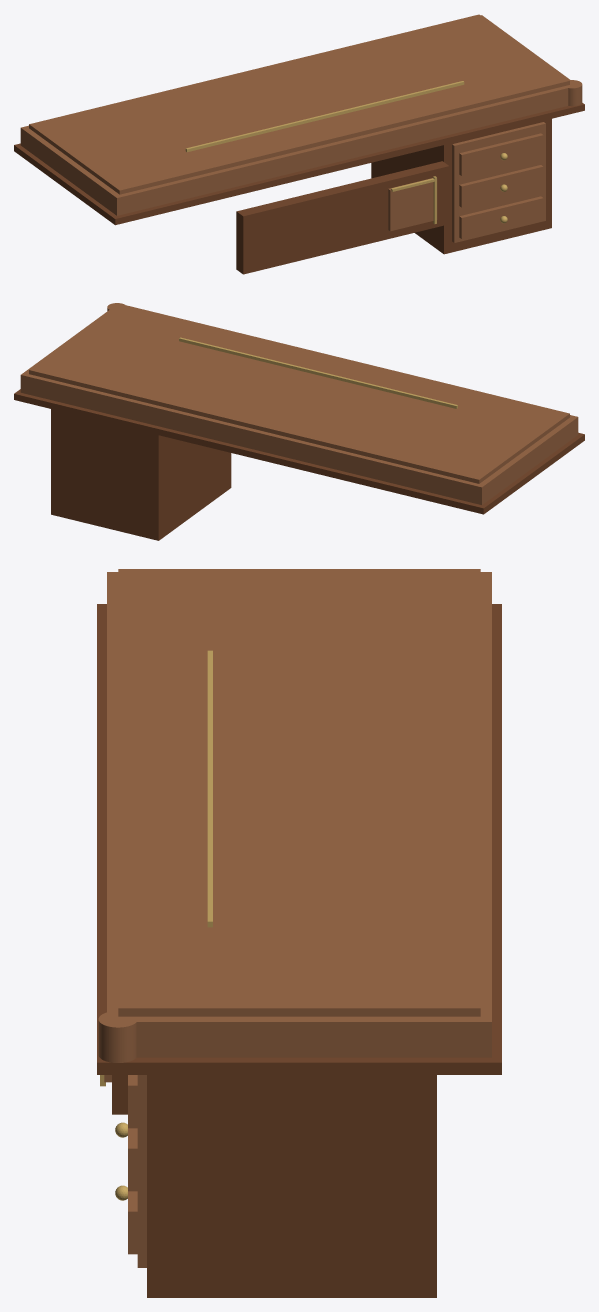
Rendered from resolute_desk.glb.
3 views of the same model, one above another, from view 1: azimuth 30°, elevation 25°; view 2: azimuth 150°, elevation 25°; view 3: azimuth 270°, elevation 25° (orthographic). The views are drawn at different scales.
Visible parts, largest first — view 1: DeskLipUpper, DeskTop, CenterApron, DeskLipLower, Pedestal, PedestalInset, Drawer2, Drawer0, Drawer1, CenterPanel, BlotterRail, DeskCorner; view 2: DeskLipUpper, Pedestal, DeskTop, DeskLipLower, BlotterRail; view 3: DeskLipUpper, Pedestal, DeskTop, DeskLipLower, PedestalInset, DeskCorner, BlotterRail.
Boxes of the visible parts, bbox=[...] form: DeskLipUpper: bbox=[29, 14, 569, 194]; DeskTop: bbox=[20, 15, 576, 215]; CenterApron: bbox=[236, 161, 449, 274]; DeskLipLower: bbox=[14, 102, 584, 225]; Pedestal: bbox=[371, 119, 551, 254]; PedestalInset: bbox=[452, 122, 545, 242]; Drawer2: bbox=[459, 196, 543, 238]; Drawer0: bbox=[459, 133, 543, 175]; Drawer1: bbox=[459, 165, 543, 207]; CenterPanel: bbox=[388, 178, 437, 231]; BlotterRail: bbox=[185, 81, 464, 152]; DeskCorner: bbox=[564, 80, 582, 106]; DeskLipUpper: bbox=[29, 304, 569, 483]; Pedestal: bbox=[51, 409, 231, 540]; DeskTop: bbox=[20, 304, 578, 504]; DeskLipLower: bbox=[14, 389, 584, 514]; BlotterRail: bbox=[179, 337, 457, 408]; DeskLipUpper: bbox=[118, 569, 480, 1016]; Pedestal: bbox=[147, 1075, 436, 1297]; DeskTop: bbox=[107, 572, 491, 1057]; DeskLipLower: bbox=[97, 604, 501, 1074]; PedestalInset: bbox=[137, 1075, 146, 1267]; DeskCorner: bbox=[98, 1011, 136, 1062]; BlotterRail: bbox=[207, 650, 212, 927].
Size of the model in its own units: 7.2 by 2.23 by 2.68.
